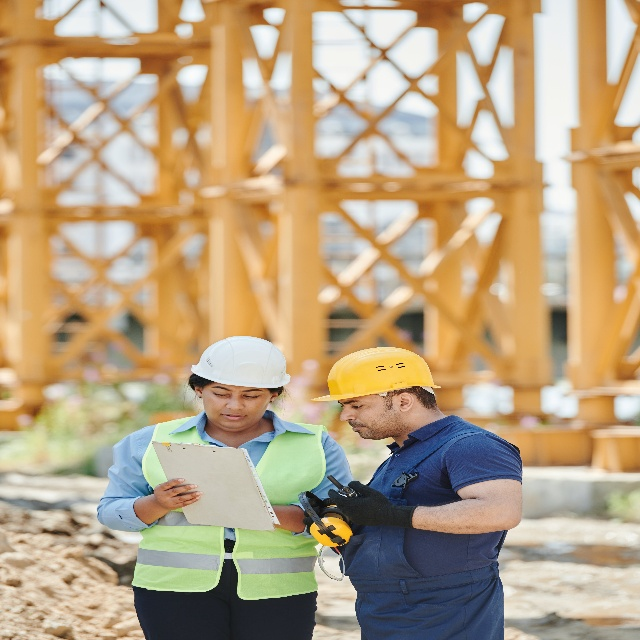Gafas: (318, 543, 345, 583)
Guantes: (328, 480, 418, 530), (303, 498, 334, 534)
Sin_guantes: (153, 478, 203, 511)
